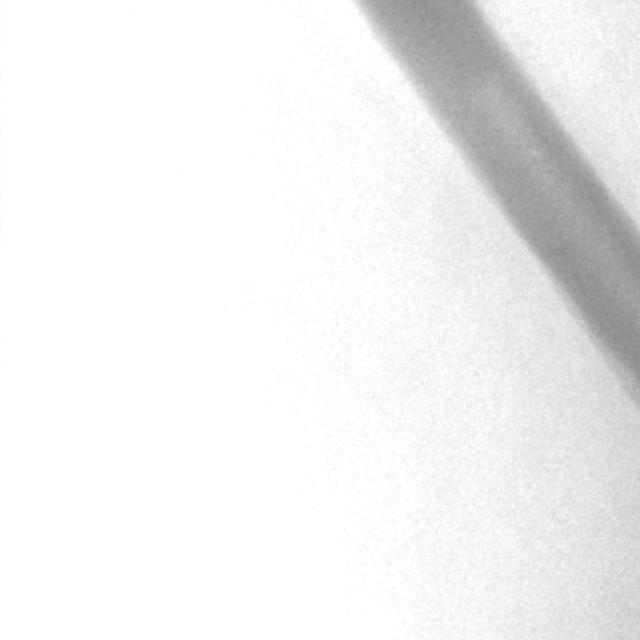air hole: (527, 141, 542, 159)
